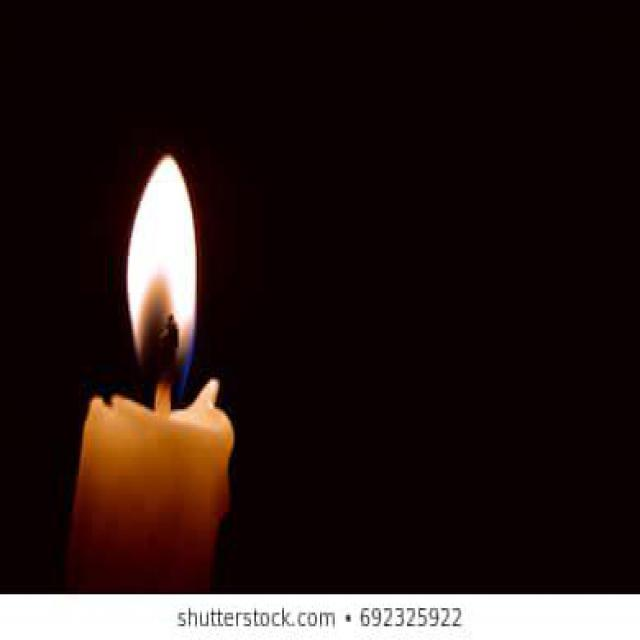Fire: (125, 156, 197, 372)
